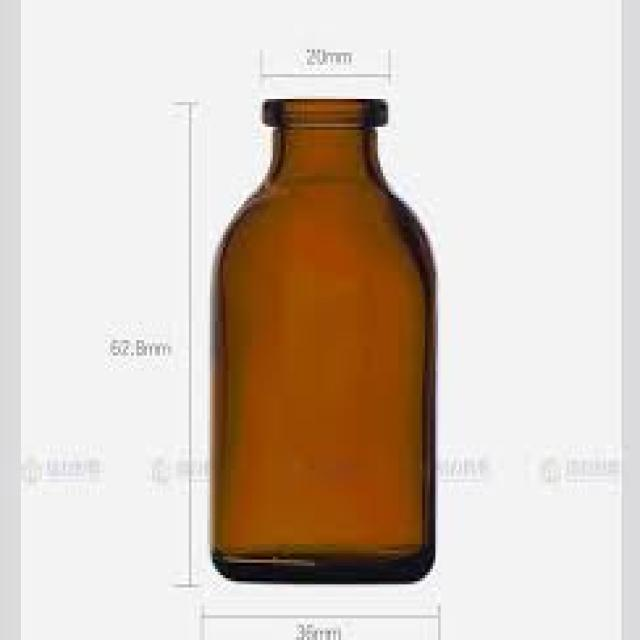glass: (205, 96, 433, 584)
